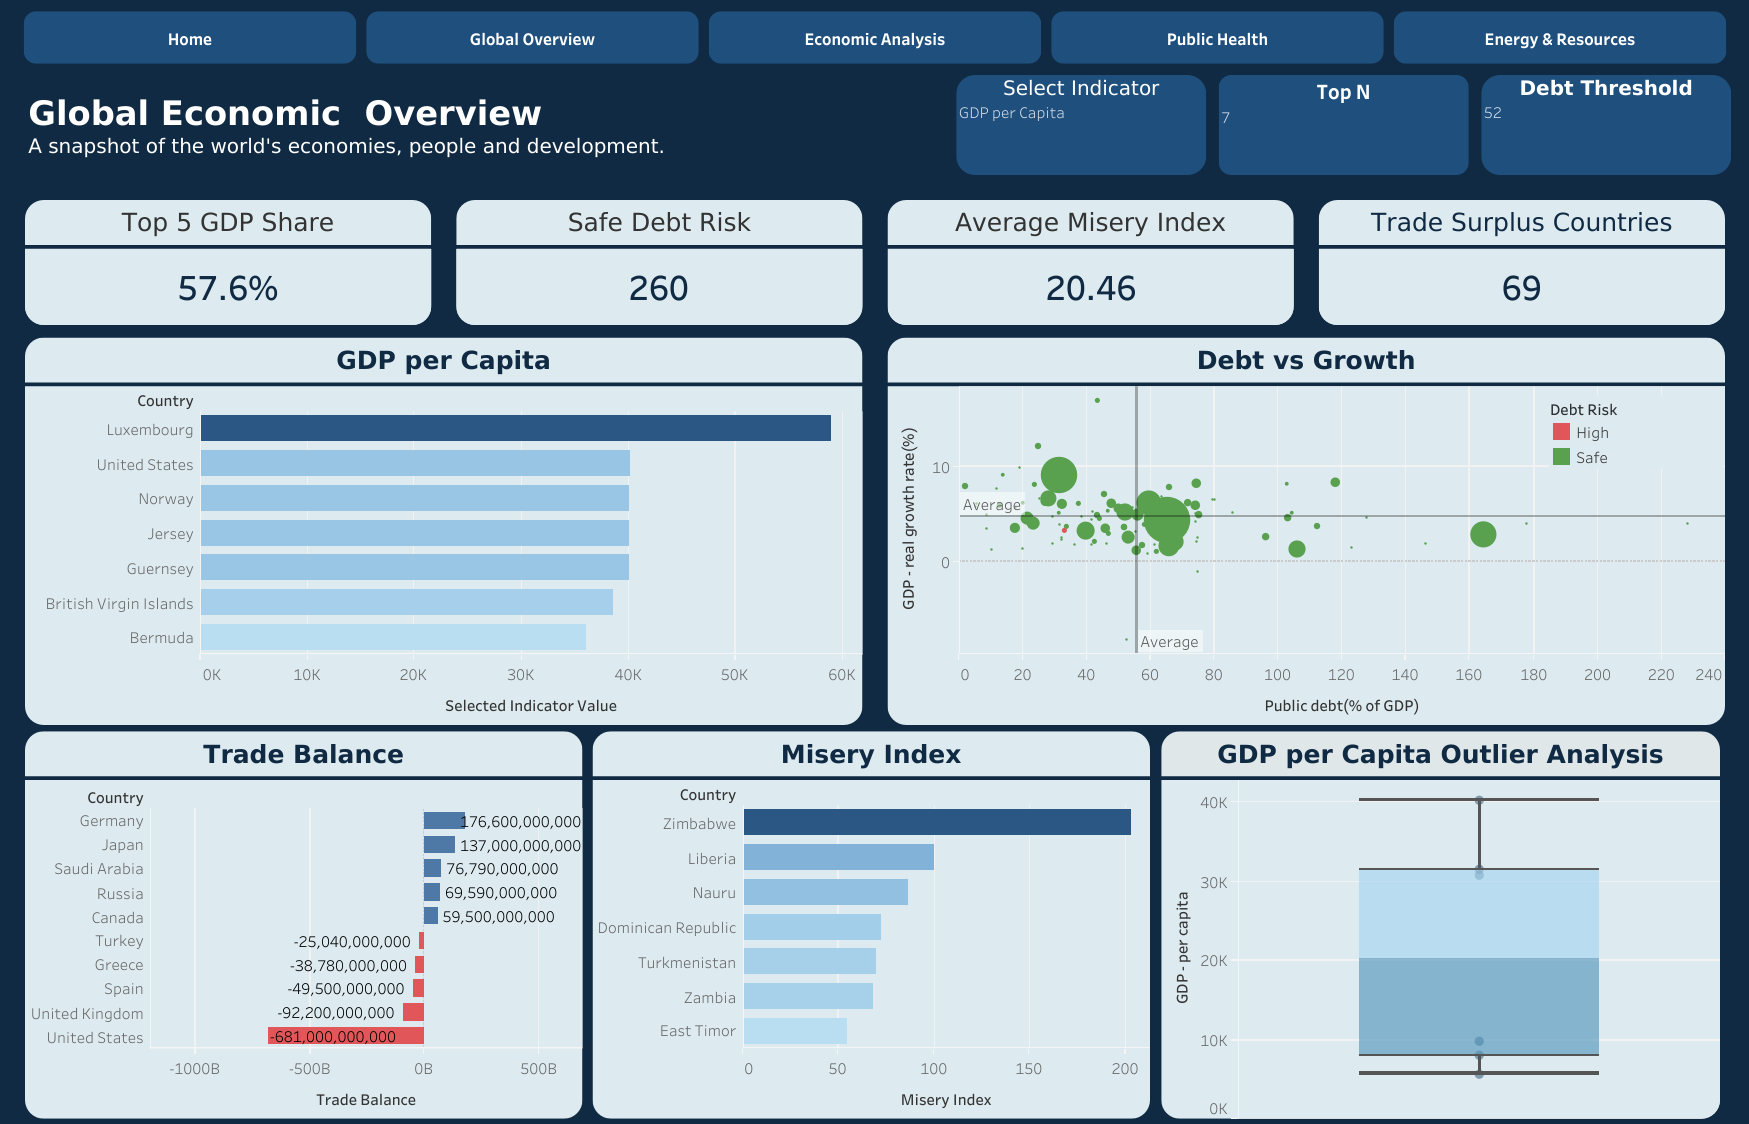

Layout of this report page (visuals, bound fields, positions):
{"tool":"tableau","page":{"name":"Economic Analysis","canvas":[1400,900],"ordinal":0},"visuals":[{"type":"dashboard-object","box":[15,5,274,50]},{"type":"dashboard-object","box":[289,5,274,50]},{"type":"dashboard-object","box":[563,5,274,50]},{"type":"dashboard-object","box":[837,5,274,50]},{"type":"dashboard-object","box":[1111,5,274,50]},{"type":"text","box":[20,60,730,80]},{"type":"parameter","param":"[Parameters].[Parameter 1760923651387396]","box":[765,60,200,80]},{"type":"parameter","param":"[Parameters].[Parameter 1760923653173256]","box":[975,60,200,80]},{"type":"parameter","param":"[Parameters].[Parameter 0877743131160587]","box":[1185,60,200,80]},{"type":"worksheet","title":"Top 5 GDP Share","mark":"Automatic","box":[20,160,325,100]},{"type":"worksheet","title":"Safe Debt Risk","mark":"Automatic","box":[365,160,325,100]},{"type":"worksheet","title":"Average Misery Index","mark":"Automatic","box":[710,160,325,100]},{"type":"worksheet","title":"Trade Surplus Countries","mark":"Automatic","box":[1055,160,325,100]},{"type":"worksheet","title":"Indicator Explorer","mark":"Automatic","rows":["Country"],"cols":["Calculation_1760923651891205"],"box":[20,270,670,310]},{"type":"worksheet","title":"Debt vs Growth","mark":"Circle","rows":["GDP - real growth rate(%)"],"cols":["Public debt(% of GDP)"],"box":[710,270,670,310]},{"type":"legend","title":"Debt vs Growth","param":"[federated.10twyn71v79rwr1h9lt141yk2yql].[none:Calculation_0877743113814025:nk]","box":[1239,316,140,64]},{"type":"worksheet","title":"Trade Balance","mark":"Automatic","rows":["Country"],"cols":["Calculation_0877743113236482"],"box":[20,590,446,310]},{"type":"worksheet","title":"Misery Index","mark":"Automatic","rows":["Country"],"cols":["Calculation_0877743113302019"],"box":[474,590,446,310]},{"type":"worksheet","title":"GDP per Capita Outlier Analysis","mark":"Circle","rows":["GDP - per capita"],"box":[929,590,447,310]}]}

Visuals, with their boxes in screenshot pixels (x1, y1, x2, y2), scaled from the page's 1400x900 canvas onto the 1749x1124 screenshot:
dashboard-object: <region>19, 6, 361, 69</region>
dashboard-object: <region>361, 6, 703, 69</region>
dashboard-object: <region>703, 6, 1046, 69</region>
dashboard-object: <region>1046, 6, 1388, 69</region>
dashboard-object: <region>1388, 6, 1730, 69</region>
text: <region>25, 75, 937, 175</region>
parameter: <region>956, 75, 1206, 175</region>
parameter: <region>1218, 75, 1468, 175</region>
parameter: <region>1480, 75, 1730, 175</region>
"Top 5 GDP Share" worksheet: <region>25, 200, 431, 325</region>
"Safe Debt Risk" worksheet: <region>456, 200, 862, 325</region>
"Average Misery Index" worksheet: <region>887, 200, 1293, 325</region>
"Trade Surplus Countries" worksheet: <region>1318, 200, 1724, 325</region>
"Indicator Explorer" worksheet: <region>25, 337, 862, 724</region>
"Debt vs Growth" worksheet (Circle marks): <region>887, 337, 1724, 724</region>
"Debt vs Growth" legend: <region>1548, 395, 1723, 475</region>
"Trade Balance" worksheet: <region>25, 737, 582, 1123</region>
"Misery Index" worksheet: <region>592, 737, 1149, 1123</region>
"GDP per Capita Outlier Analysis" worksheet (Circle marks): <region>1161, 737, 1719, 1123</region>
